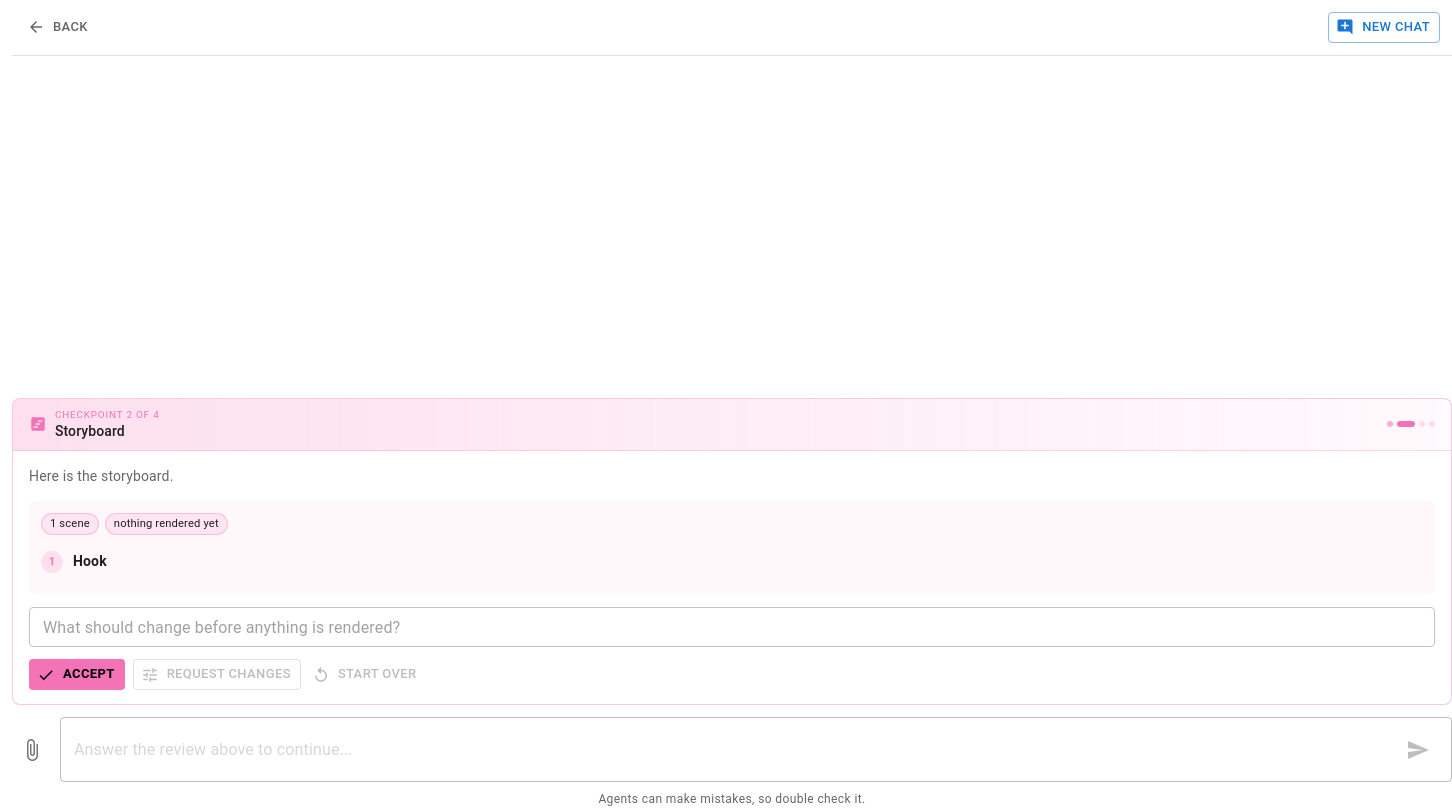
Test: ActiveConversation › review checkpoints › answers the checkpoint and hides the control
Expected: the element with test id "gate-review-card" is shown, left=12, top=398, right=1451, bottom=705
What coordinates should you click on to do the following:
click the button "Accept"
I would click on:
 (77, 675)
Its box is left=29, top=659, right=125, bottom=690.
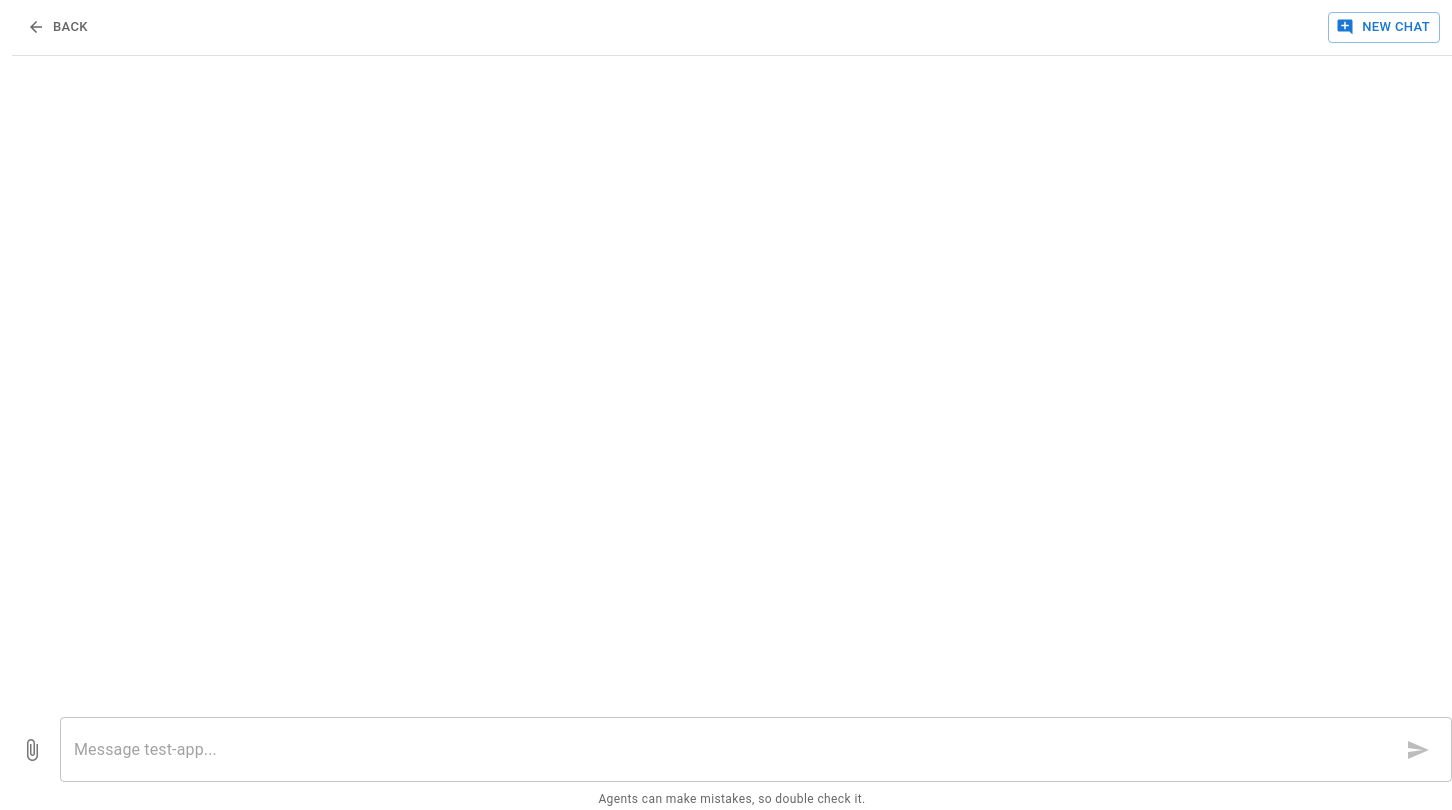
Expected: the element with test id "gate-review-card" is gone
